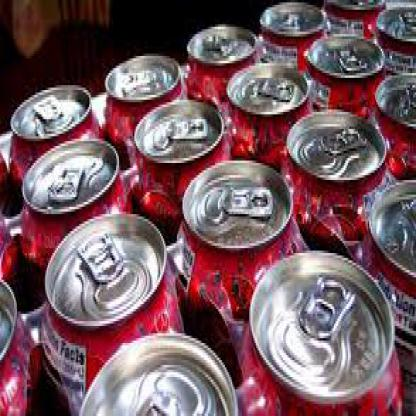METAL: (34, 204, 181, 414), (238, 246, 403, 414), (178, 153, 299, 348), (17, 134, 132, 287), (282, 102, 390, 246), (71, 326, 243, 414), (352, 175, 415, 414), (129, 95, 226, 214), (9, 83, 100, 187), (222, 54, 309, 158), (101, 54, 182, 163), (184, 22, 256, 114), (304, 32, 386, 110), (0, 272, 36, 414), (375, 68, 415, 178), (259, 0, 324, 61), (375, 5, 415, 68), (325, 0, 385, 37)
